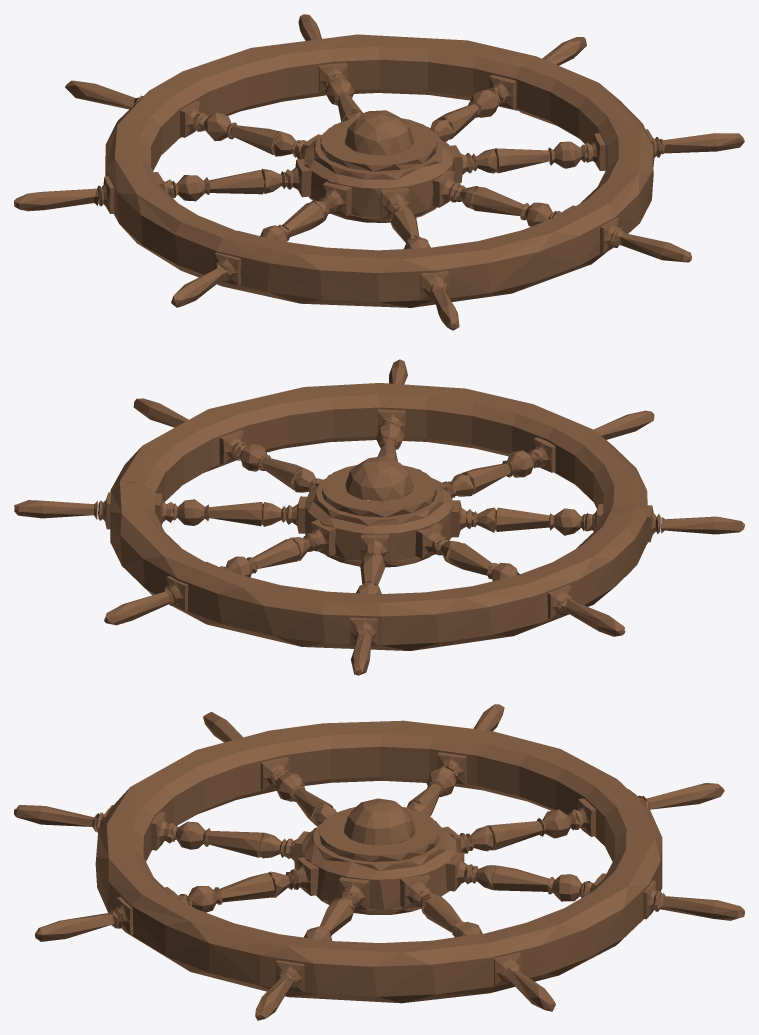
Rendered from Setir Kapal.fbx.
3 views of the same model, one above another, from view 1: azimuth 30°, elevation 25°; view 2: azimuth 150°, elevation 25°; view 3: azimuth 270°, elevation 25° (orthographic). The views are drawn at different scales.
Parts seen in each view (by area): view 1: rudder_lp; view 2: rudder_lp; view 3: rudder_lp.
Boxes of the visible parts, x1,y1,x2,y2 form: rudder_lp: (14, 14, 744, 330); rudder_lp: (14, 359, 744, 675); rudder_lp: (14, 704, 744, 1020).
Size of the model in its own units: 824 by 104 by 822.
